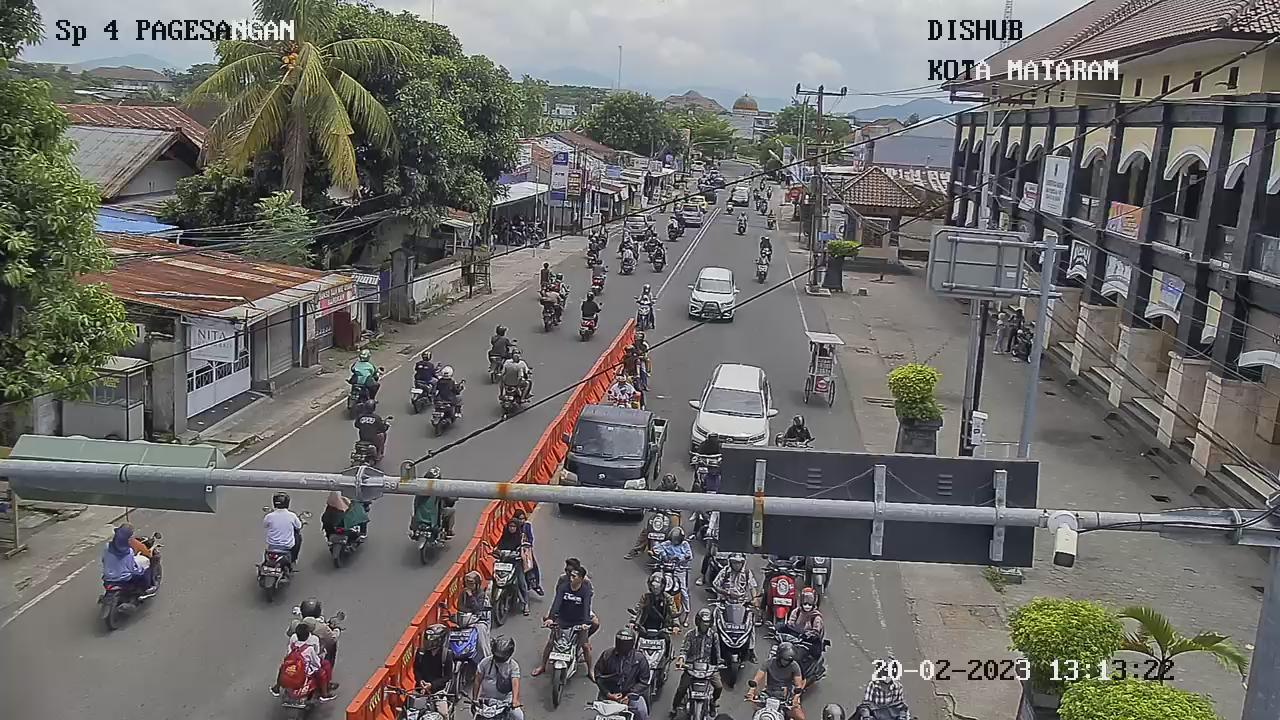car: (687, 361, 775, 454), (684, 263, 740, 325)
motorcycle: (437, 601, 492, 704), (706, 592, 760, 690), (539, 615, 591, 704), (481, 542, 528, 628), (625, 617, 677, 694), (757, 550, 802, 630), (672, 656, 727, 720), (644, 502, 675, 558), (799, 556, 835, 603), (631, 295, 657, 332), (751, 259, 770, 282), (758, 245, 773, 264), (734, 217, 749, 236)
person: (595, 627, 651, 705), (746, 638, 806, 708), (470, 633, 524, 707), (253, 488, 307, 558), (409, 619, 455, 697), (282, 594, 337, 658), (628, 569, 680, 632), (675, 607, 725, 672), (709, 549, 758, 610), (99, 520, 148, 580), (779, 587, 825, 650), (547, 561, 592, 624), (651, 526, 693, 574), (349, 396, 388, 445), (454, 570, 490, 619), (495, 345, 534, 389), (605, 369, 642, 411), (778, 412, 816, 452), (432, 362, 465, 406), (347, 348, 379, 389), (495, 512, 524, 553), (484, 322, 511, 363), (618, 343, 645, 380), (626, 324, 652, 362), (412, 349, 437, 387), (588, 254, 610, 285), (579, 290, 600, 319), (549, 270, 567, 298), (536, 261, 555, 287), (636, 282, 655, 305), (756, 251, 771, 268), (736, 211, 749, 224), (761, 235, 772, 250)
truck: (551, 403, 672, 510)
